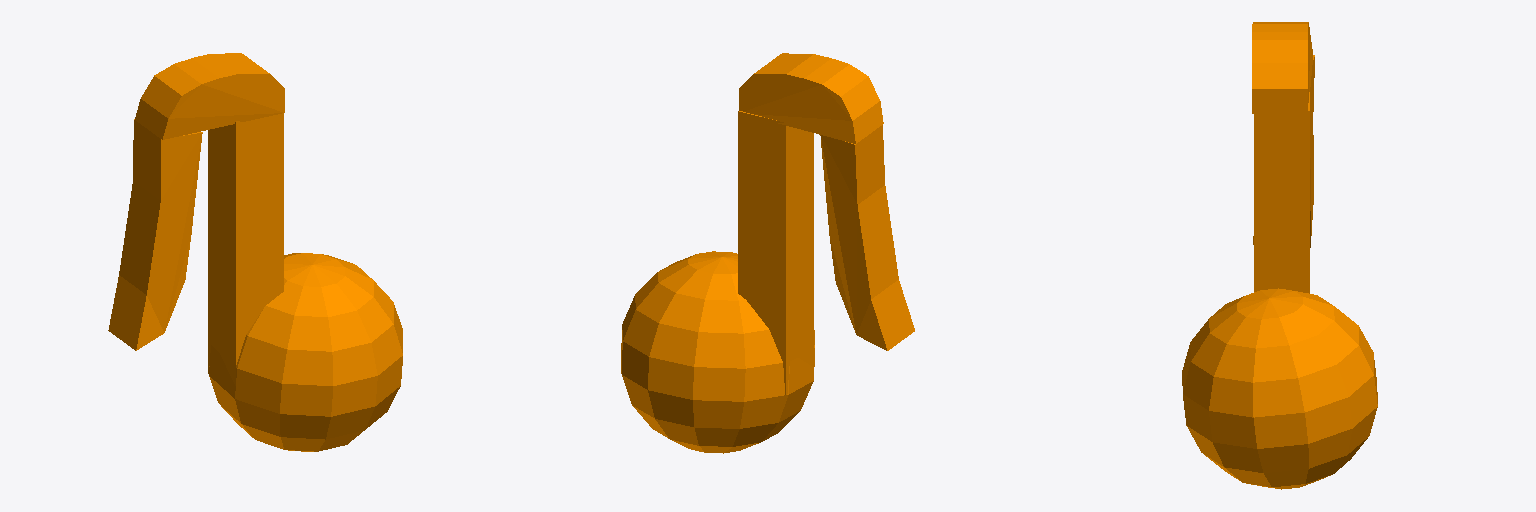
File: orange_note_obj.obj
3 renders of one model, left to right at view 1: azimuth 30°, elevation 25°; view 2: azimuth 150°, elevation 25°; view 3: azimuth 270°, elevation 25°, orthographic.
Visible parts, largest first — view 1: group[number redacted], group[number redacted], group[number redacted], group[number redacted]; view 2: group[number redacted], group[number redacted], group[number redacted], group[number redacted]; view 3: group[number redacted], group[number redacted], group[number redacted], group[number redacted].
Boxes of the visible parts, <box> form: group[number redacted]: <box>209,253,402,451</box>; group[number redacted]: <box>208,113,283,385</box>; group[number redacted]: <box>108,119,202,350</box>; group[number redacted]: <box>135,53,284,139</box>; group[number redacted]: <box>621,251,814,453</box>; group[number redacted]: <box>738,111,813,394</box>; group[number redacted]: <box>820,125,914,350</box>; group[number redacted]: <box>739,53,883,143</box>; group[number redacted]: <box>1182,288,1377,489</box>; group[number redacted]: <box>1254,92,1309,293</box>; group[number redacted]: <box>1252,22,1312,113</box>; group[number redacted]: <box>1253,55,1314,247</box>.
Size of the model in its own units: 3.45 by 4.92 by 2.18.